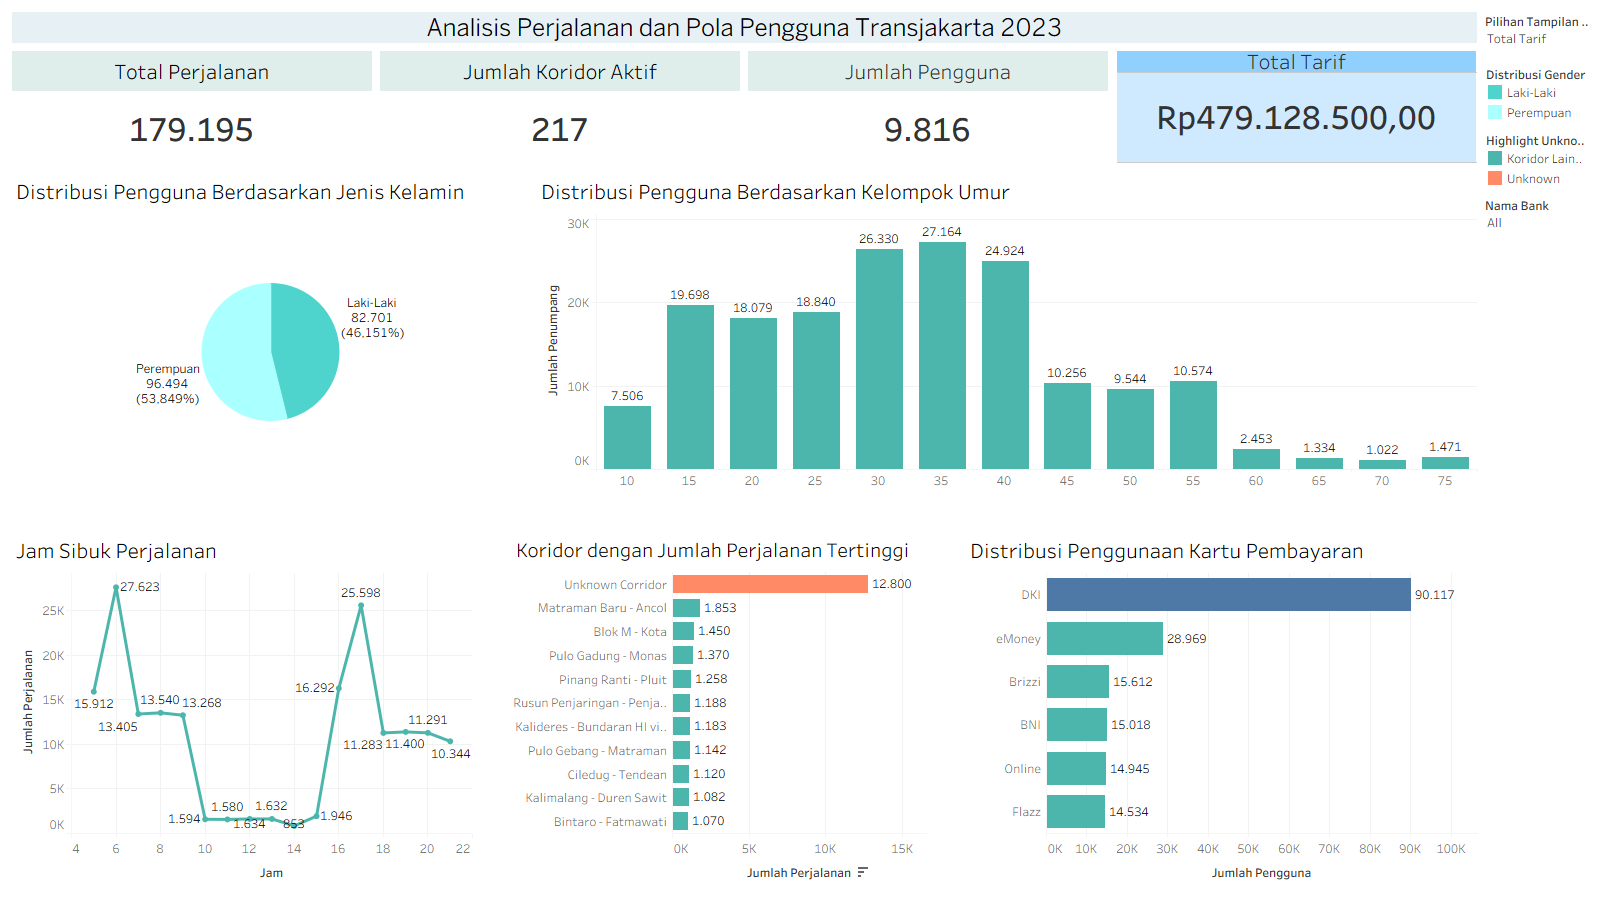

Layout of this report page (visuals, bound fields, positions):
{"tool":"tableau","page":{"name":"Dashboard 1","canvas":[1600,900],"ordinal":0},"visuals":[{"type":"title","box":[8,8,1473,39]},{"type":"parameter","param":"[Parameters].[Parameter 1]","box":[1481,8,111,52]},{"type":"worksheet","title":"Total Perjalanan","mark":"Automatic","box":[8,47,368.2,120]},{"type":"worksheet","title":"Jumlah Koridor","mark":"Automatic","box":[376.2,47,368.2,120]},{"type":"worksheet","title":"Jumlah Pengguna","mark":"Automatic","box":[744.5,47,368.2,120]},{"type":"worksheet","title":"Tarif Dinamis","mark":"Automatic","box":[1112.7,47,368.2,120]},{"type":"legend","title":"Distribusi Gender","param":"[federated.0ncreoz02wrwiq11my7p50e42m8a].[none:payCardSex:nk]","box":[1481,60,111,66]},{"type":"legend","title":"Top Koridor","param":"[federated.0ncreoz02wrwiq11my7p50e42m8a].[none:Calculation_1445655544532148226:n","box":[1481,126,111,66]},{"type":"worksheet","title":"Distribusi Gender","mark":"Pie","box":[8,167,525,327]},{"type":"worksheet","title":"Distribusi Umur","mark":"Automatic","rows":["transID"],"cols":["Age (bin)"],"box":[533,167,948,327]},{"type":"filter","title":"Payment","param":"[federated.0ncreoz02wrwiq11my7p50e42m8a].[none:payCardBank:nk]","box":[1481,192,111,52]},{"type":"legend","title":"Payment","param":"[federated.0ncreoz02wrwiq11my7p50e42m8a].[usr:Calculation_1445655544582565892:nk","box":[1481,244,111,66]},{"type":"blank","box":[8,494,1473,32]},{"type":"worksheet","title":"Peak Hour","mark":"Automatic","rows":["transID"],"cols":["hour"],"box":[8,526,468,366]},{"type":"blank","box":[476,526,32,366]},{"type":"worksheet","title":"Top Koridor","mark":"Automatic","rows":["corridorName"],"cols":["transID"],"box":[508,526,422,366]},{"type":"blank","box":[930,526,32,366]},{"type":"worksheet","title":"Payment","mark":"Automatic","rows":["payCardBank"],"cols":["transID"],"box":[962,526,519,366]}]}

Visuals, with their boxes in screenshot pixels (x1, y1, x2, y2), scaled from the page's 1600x900 canvas onto the 1600x900 screenshot:
title: bbox=[8, 8, 1481, 47]
parameter: bbox=[1481, 8, 1592, 60]
"Total Perjalanan" worksheet: bbox=[8, 47, 376, 167]
"Jumlah Koridor" worksheet: bbox=[376, 47, 744, 167]
"Jumlah Pengguna" worksheet: bbox=[744, 47, 1113, 167]
"Tarif Dinamis" worksheet: bbox=[1113, 47, 1481, 167]
"Distribusi Gender" legend: bbox=[1481, 60, 1592, 126]
"Top Koridor" legend: bbox=[1481, 126, 1592, 192]
"Distribusi Gender" worksheet (Pie marks): bbox=[8, 167, 533, 494]
"Distribusi Umur" worksheet: bbox=[533, 167, 1481, 494]
"Payment" filter: bbox=[1481, 192, 1592, 244]
"Payment" legend: bbox=[1481, 244, 1592, 310]
blank: bbox=[8, 494, 1481, 526]
"Peak Hour" worksheet: bbox=[8, 526, 476, 892]
blank: bbox=[476, 526, 508, 892]
"Top Koridor" worksheet: bbox=[508, 526, 930, 892]
blank: bbox=[930, 526, 962, 892]
"Payment" worksheet: bbox=[962, 526, 1481, 892]
